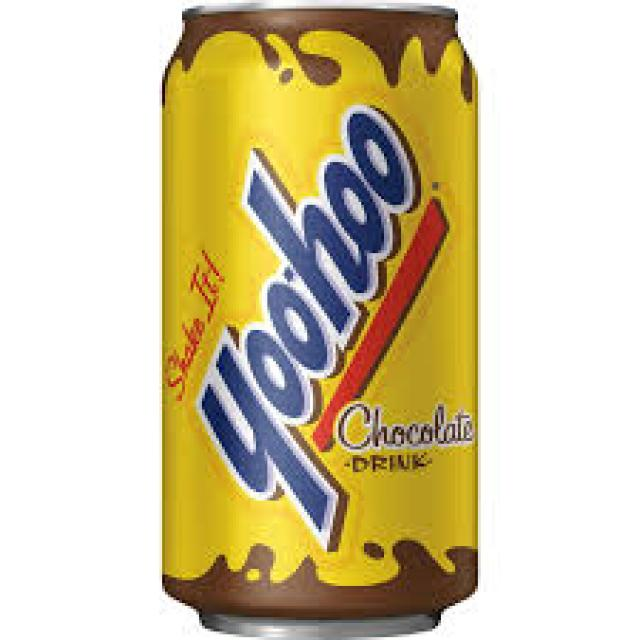Cans: (156, 3, 481, 634)
